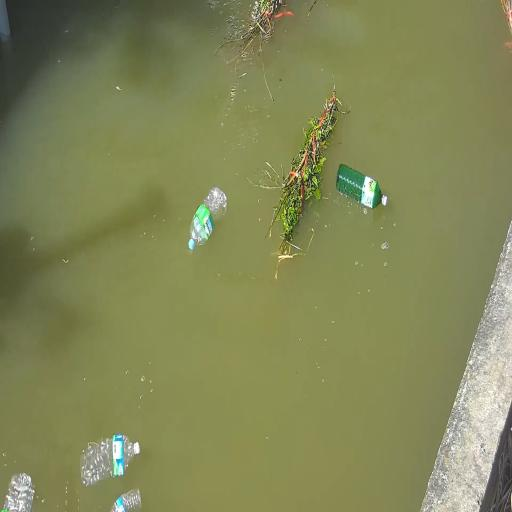plastic: (78, 428, 144, 486), (336, 159, 391, 217), (185, 184, 228, 252), (4, 465, 48, 512), (104, 483, 142, 512)
twig: (274, 95, 339, 255), (219, 0, 298, 64), (492, 0, 512, 52)
